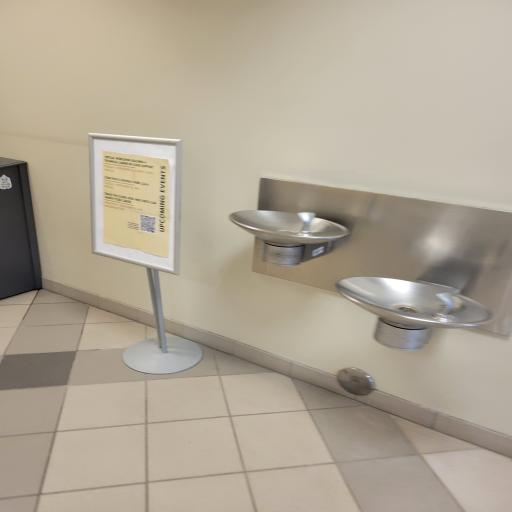water fountain: (322, 265, 511, 357), (221, 190, 358, 272)
